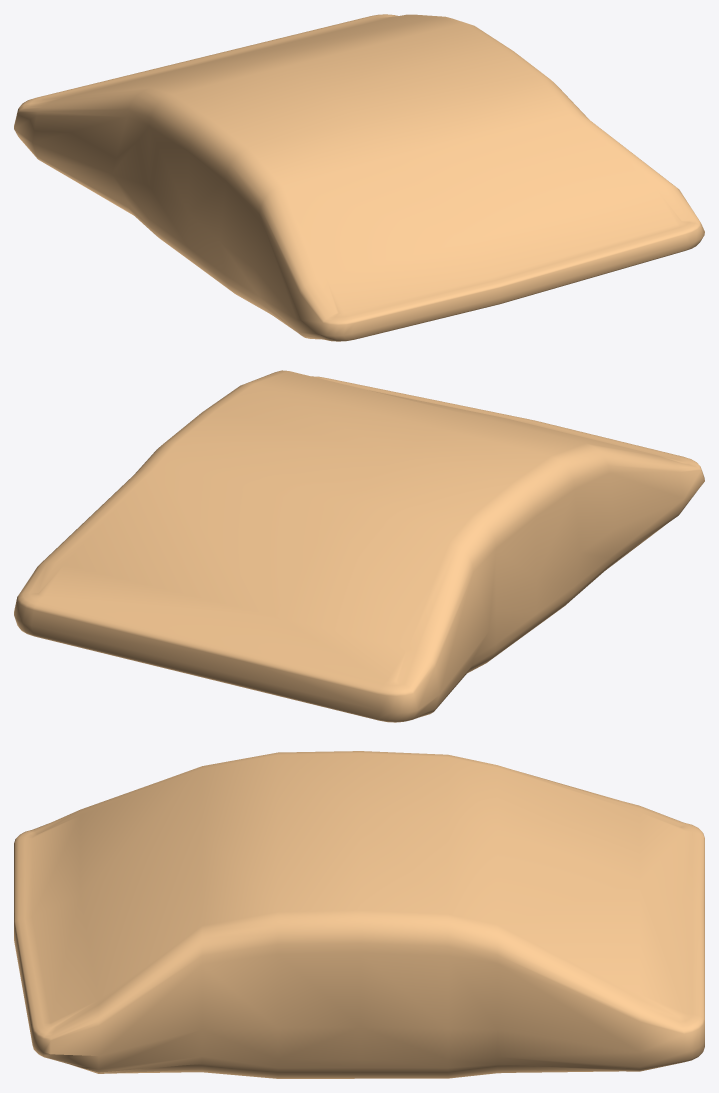
Rendered from shabao.fbx.
The picture shows the model from 3 angles, top to bottom: view 1: azimuth 30°, elevation 25°; view 2: azimuth 150°, elevation 25°; view 3: azimuth 270°, elevation 25°; orthographic projection. The views are drawn at different scales.
Parts seen in each view (by area): view 1: 立方体; view 2: 立方体; view 3: 立方体.
Part boxes in pixels (x1,y1,x2,y2): 立方体: [14, 14, 704, 341]; 立方体: [14, 370, 704, 722]; 立方体: [14, 751, 704, 1078].
Bounding box in the file's own units: 705 × 245 × 923.
